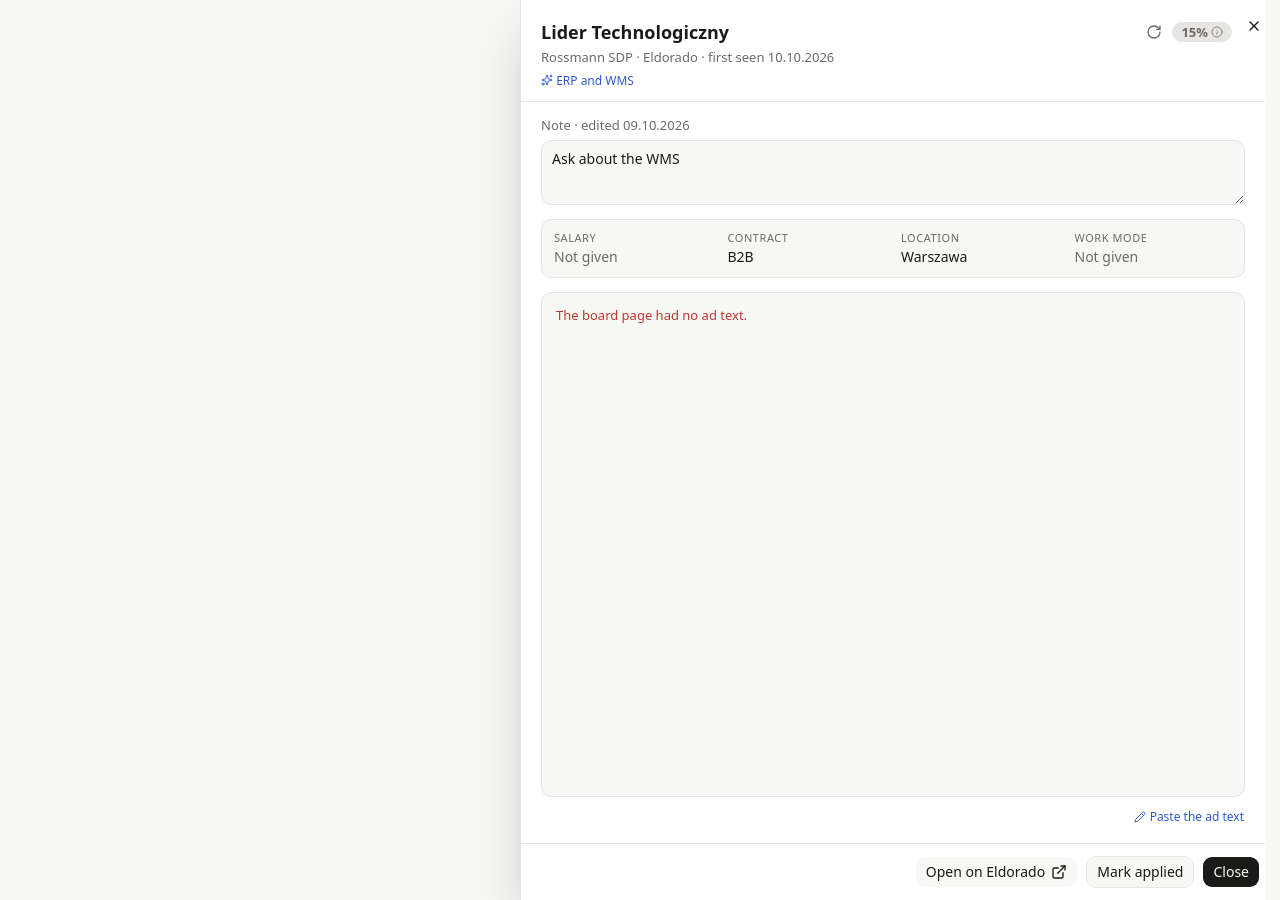
an offer window › the ad, yours to edit: it saves itself › an ad that can’t be saved stops "Mark applied"
This screenshot has width=1280, height=900.
Click the button "Paste the ad text": (1189,817) [1133,805,1245,829]
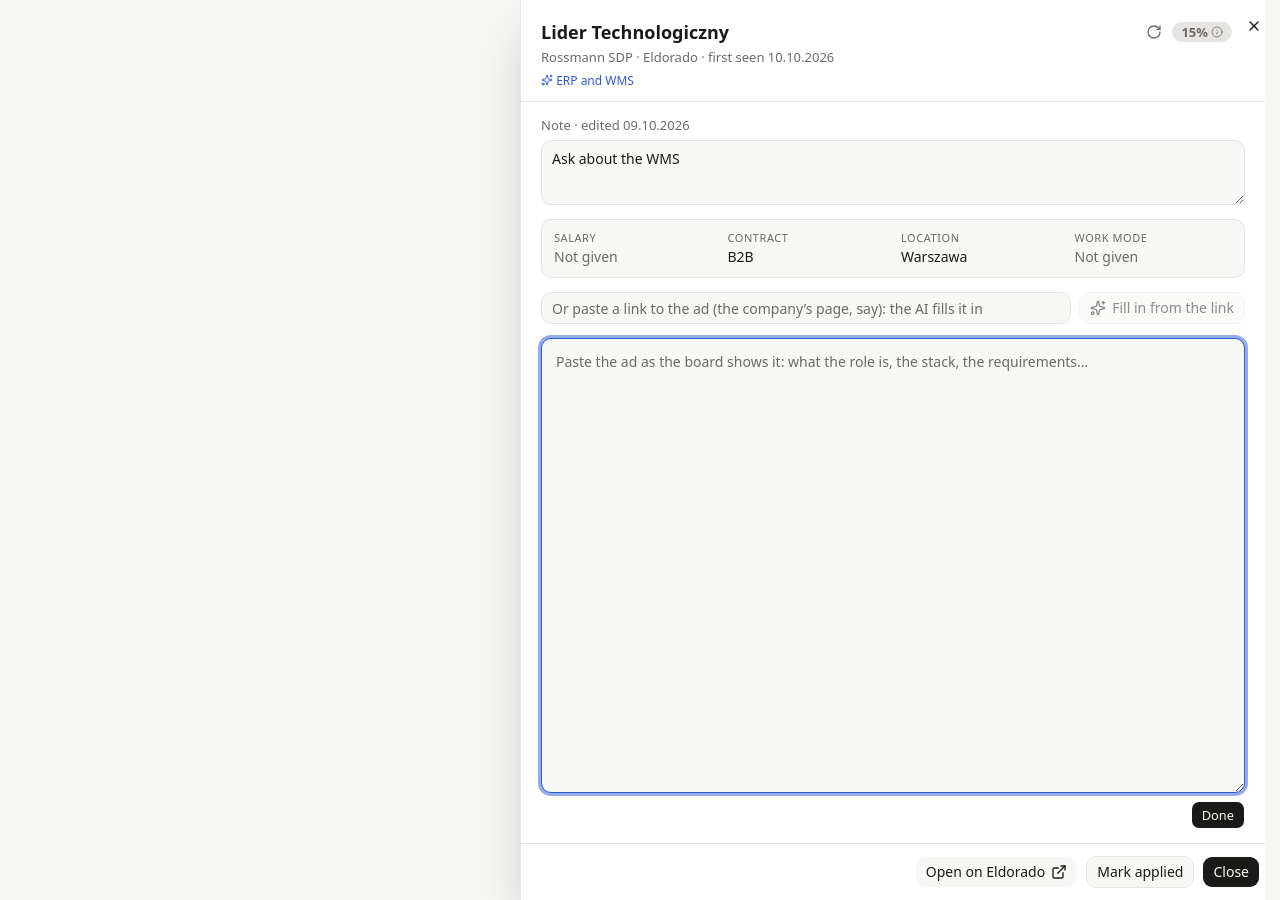
Replace the text in the text box with placeholder "Paste the ad as the board shows it: what the role is, the stack, the requirements…" with "React 19, Next.js, design systems": (893,566) [541,338,1245,793]
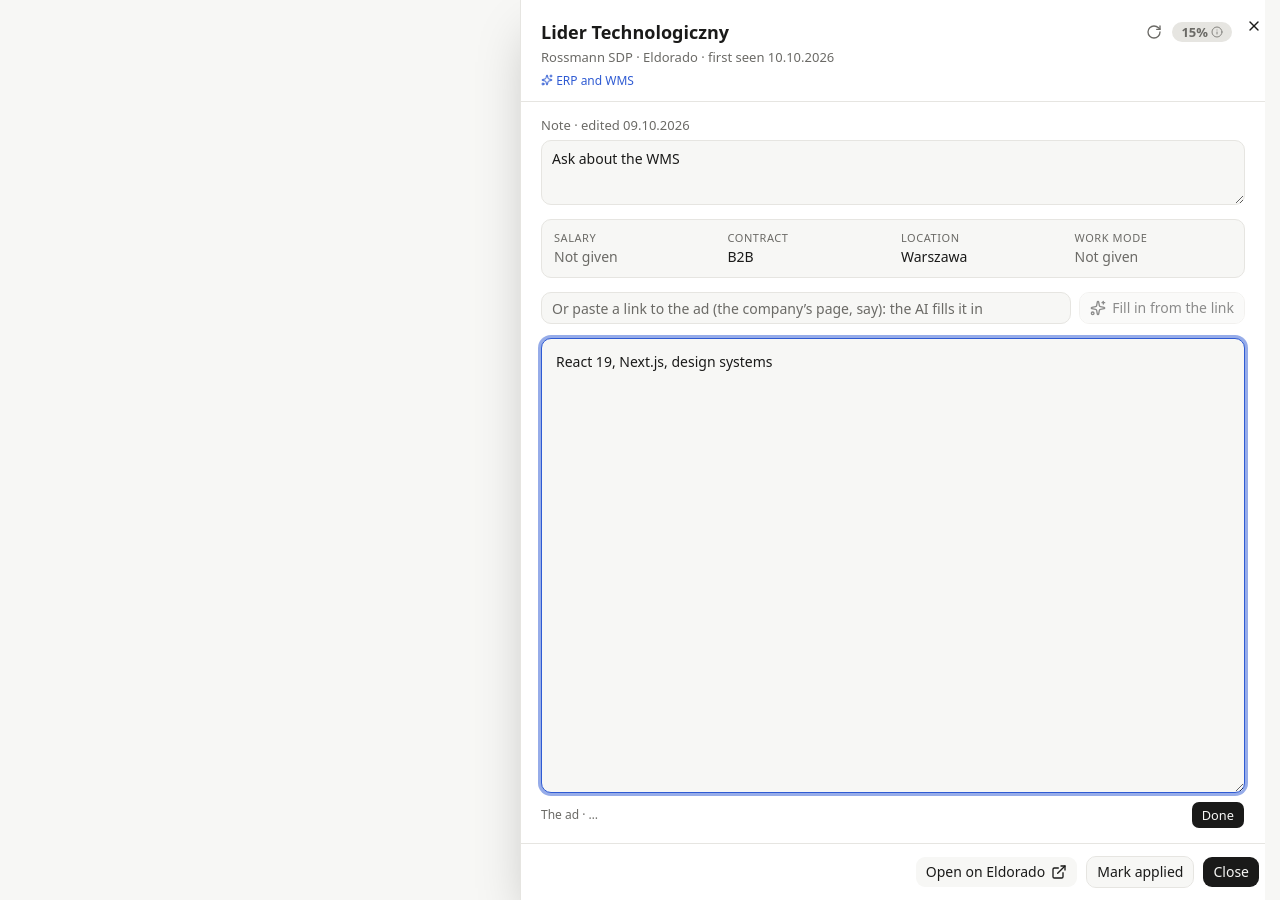
Click the button "Mark applied": (1140,872) [1086,856,1194,888]
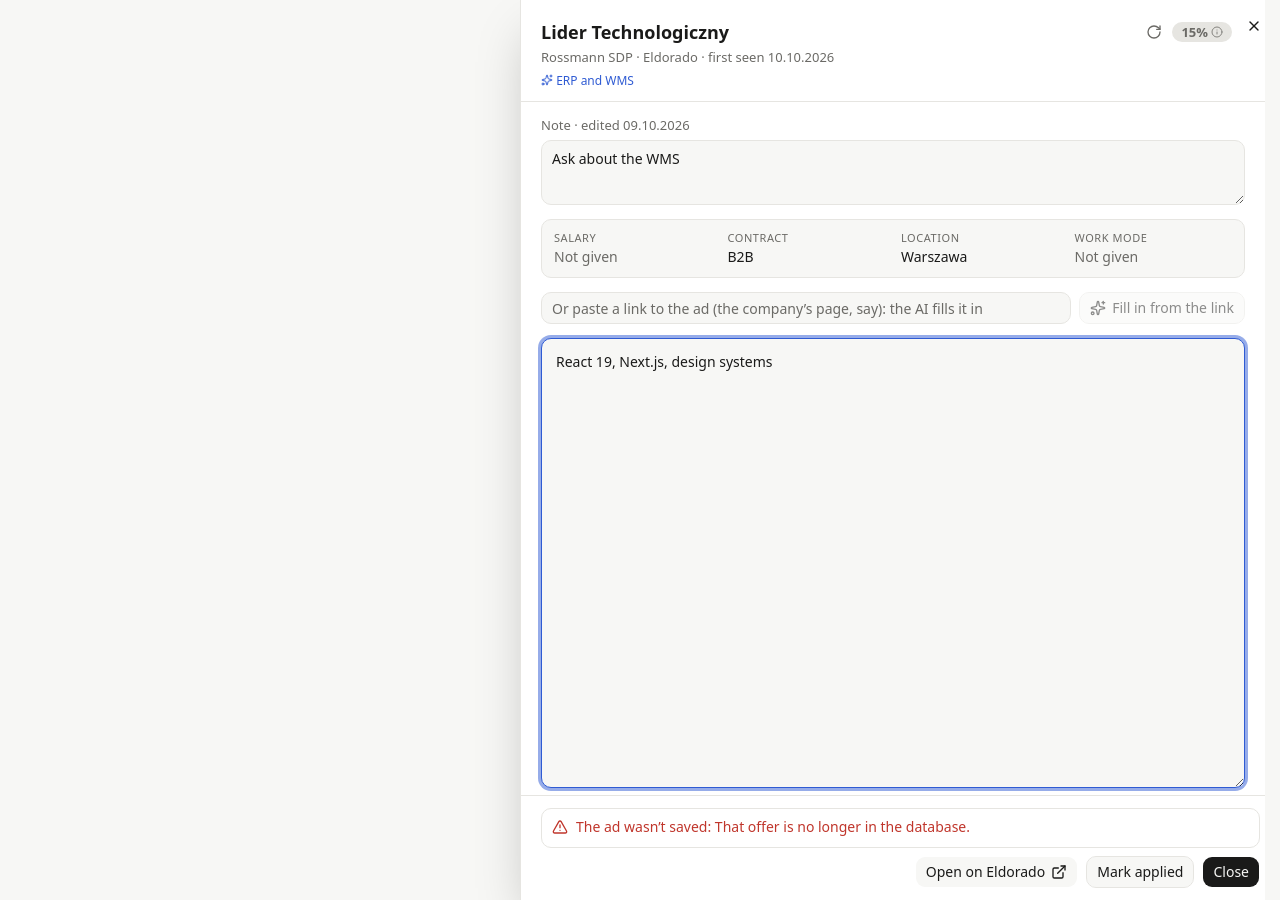
expect the text "The ad wasn’t saved: That offer is no longer in the database." is shown: met, box [576,817,970,836]
